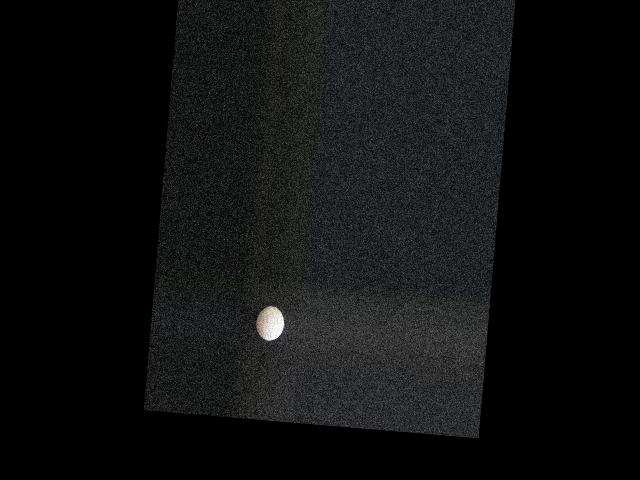egg: (254, 304, 285, 340)
